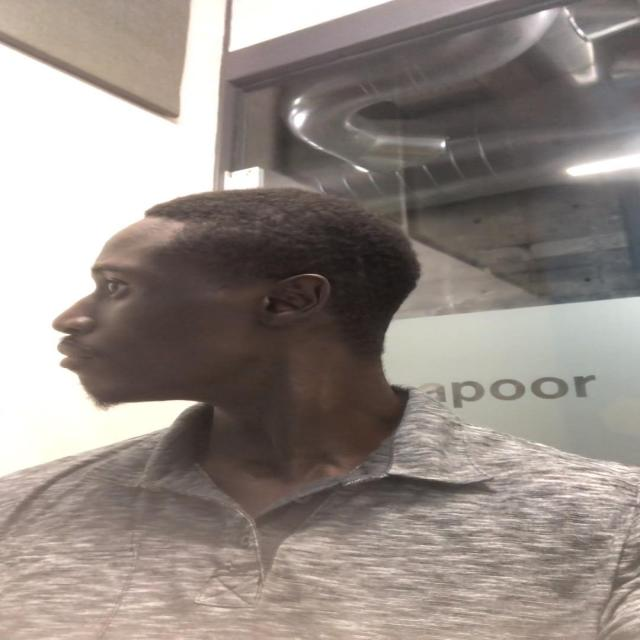face: (48, 218, 309, 408)
